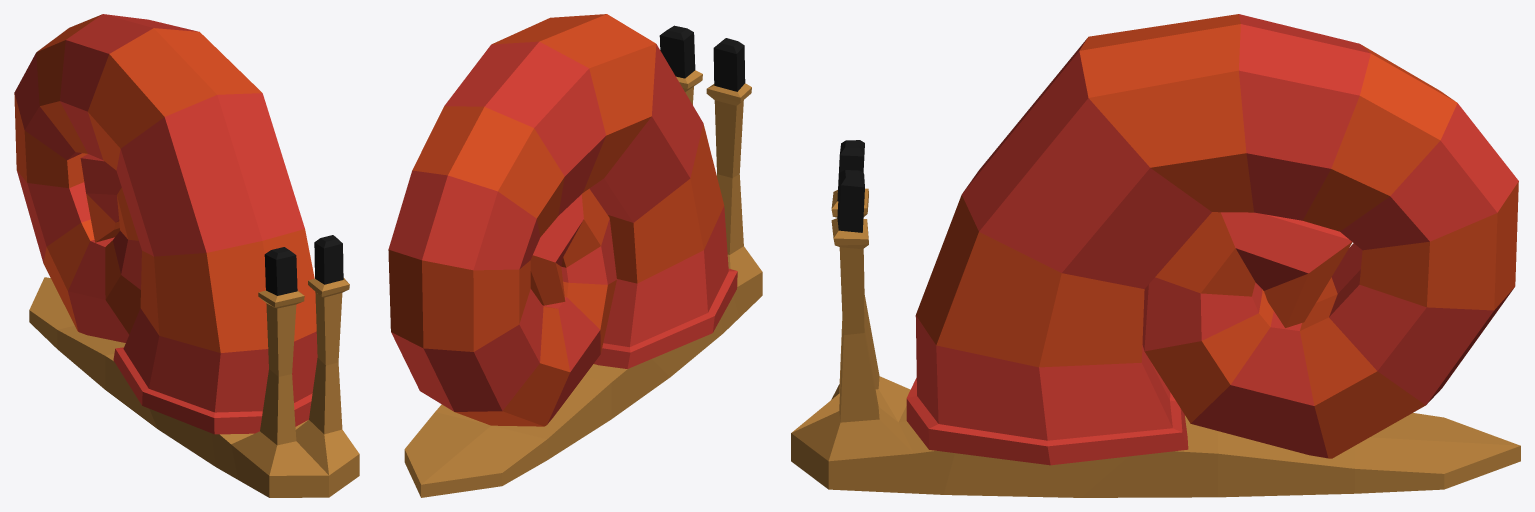
The model's file is Snail_01.fbx.
3 renders of one model, left to right at view 1: azimuth 30°, elevation 25°; view 2: azimuth 150°, elevation 25°; view 3: azimuth 270°, elevation 25°, orthographic. The views are drawn at different scales.
Visible parts, largest first — view 1: Snail_01; view 2: Snail_01; view 3: Snail_01.
Part boxes in pixels (bbox=[...]): Snail_01: bbox=[14, 14, 359, 497]; Snail_01: bbox=[388, 14, 762, 497]; Snail_01: bbox=[791, 14, 1520, 497].
Bounding box in the file's own units: 1.57 × 2.96 × 4.47.
